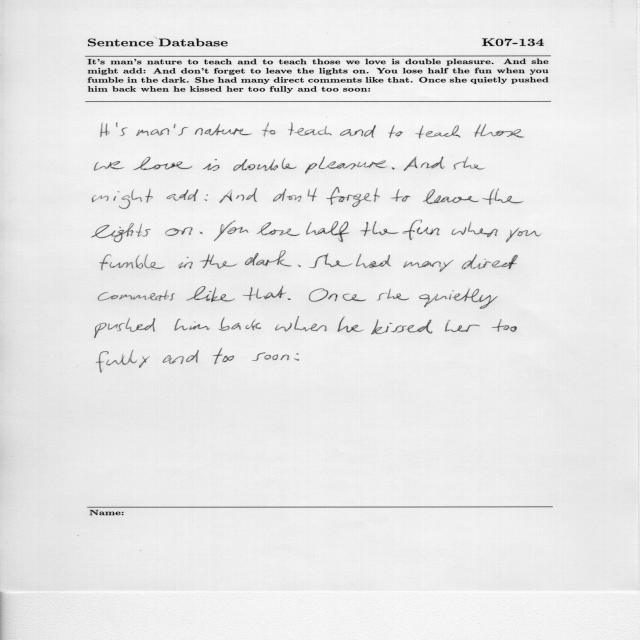word: (419, 288, 497, 309), (305, 157, 386, 174), (96, 350, 150, 373), (92, 189, 153, 209), (95, 318, 155, 338), (91, 223, 151, 242), (100, 254, 165, 271), (326, 187, 380, 207), (371, 320, 432, 335), (306, 221, 349, 242), (461, 255, 518, 270), (98, 290, 175, 301), (423, 189, 479, 204), (233, 158, 297, 171), (309, 288, 366, 302), (186, 286, 235, 302), (275, 317, 327, 332), (134, 157, 193, 170), (402, 220, 440, 240), (245, 251, 291, 267), (214, 221, 249, 242), (474, 124, 524, 138), (483, 188, 524, 205), (309, 253, 353, 268), (242, 286, 286, 301), (452, 223, 498, 237), (195, 124, 252, 135), (136, 124, 188, 136), (288, 122, 332, 136), (273, 188, 317, 202), (256, 222, 300, 236), (404, 156, 445, 171), (403, 260, 454, 272), (219, 317, 262, 331), (415, 125, 461, 138), (360, 221, 399, 236), (220, 188, 257, 203), (200, 254, 237, 268), (506, 228, 542, 242), (163, 350, 199, 364), (356, 254, 391, 268), (340, 125, 376, 138), (337, 316, 364, 333), (174, 319, 210, 331), (445, 320, 480, 332), (454, 157, 485, 170), (167, 189, 199, 201), (377, 289, 410, 300), (491, 319, 517, 332), (213, 348, 234, 364), (252, 352, 289, 361), (95, 161, 125, 171), (391, 189, 411, 202), (165, 227, 193, 236), (202, 159, 220, 171), (262, 123, 276, 137), (389, 125, 403, 138), (178, 257, 193, 269), (116, 122, 127, 136), (101, 122, 110, 137), (294, 353, 300, 361), (205, 194, 208, 201), (392, 167, 395, 170), (298, 264, 301, 267), (287, 298, 291, 300), (200, 232, 203, 234)
